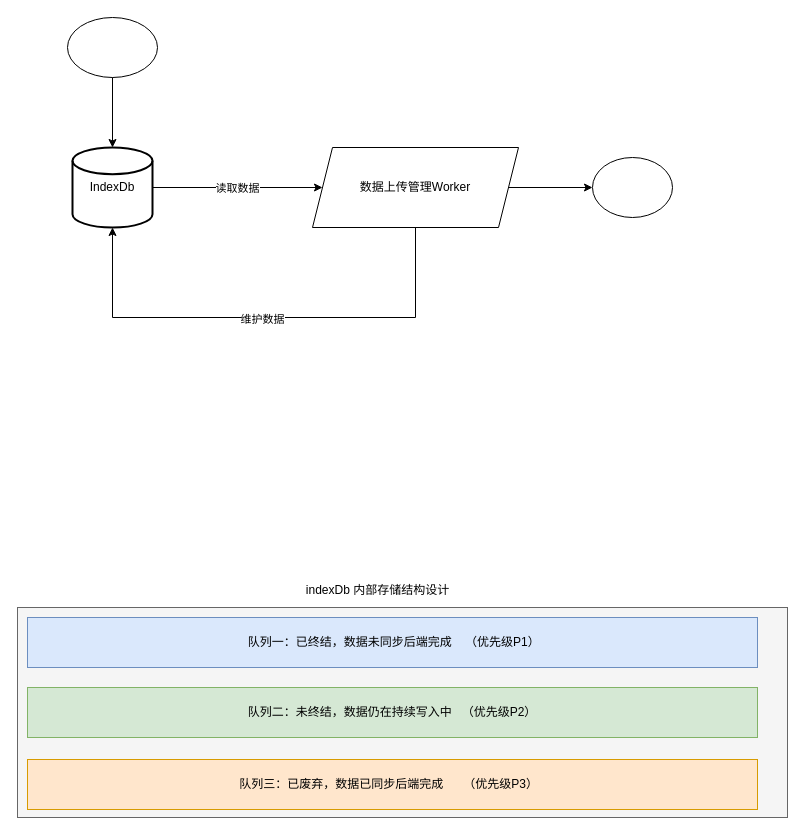
The diagram is 805 pixels wide and 835 high, and some of its shapes have lost their labels. Here are the shapes that lost their labels. From the top down, the box of each, then its label:
(66, 16, 158, 78): 开始录屏
(592, 156, 672, 218): 云端
